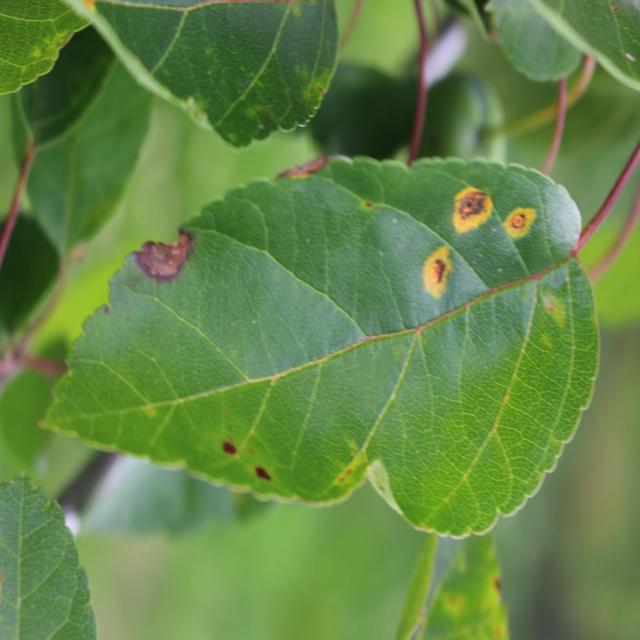Black Rot: (124, 213, 207, 290), (250, 148, 352, 188)
Rust: (450, 177, 502, 243), (502, 189, 546, 265), (411, 232, 458, 303)
